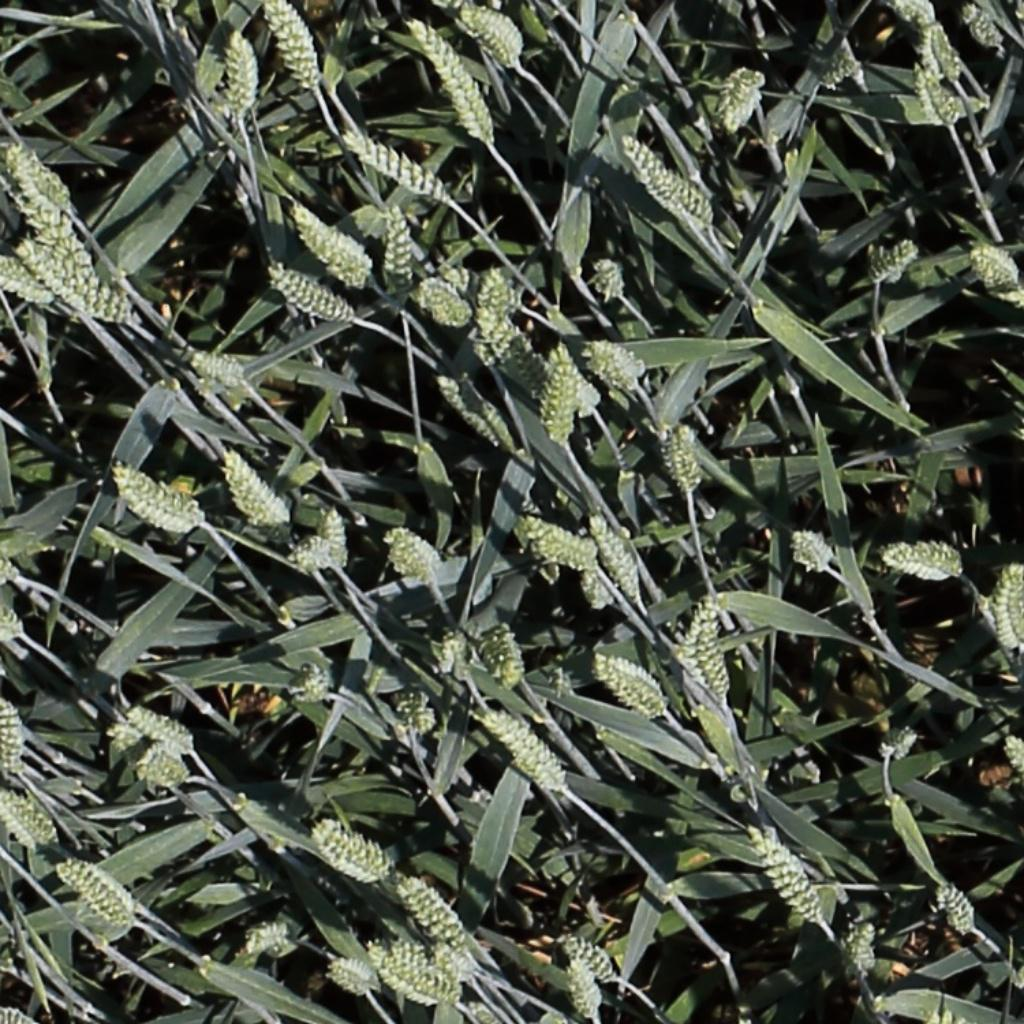0-0: (406, 12, 499, 148), (107, 457, 210, 537), (618, 131, 704, 225), (19, 243, 125, 319), (748, 828, 828, 927), (344, 126, 447, 199), (473, 303, 552, 397), (5, 151, 77, 252), (288, 200, 371, 286), (374, 938, 476, 1007), (484, 712, 567, 794), (219, 443, 292, 532), (12, 130, 88, 213), (593, 510, 656, 608), (307, 818, 391, 889), (263, 0, 323, 95), (636, 160, 724, 223), (407, 871, 479, 946), (267, 263, 352, 322), (55, 861, 133, 924), (687, 601, 736, 700), (871, 536, 969, 585), (518, 518, 604, 571), (595, 655, 666, 718), (540, 345, 598, 419), (652, 417, 704, 499), (537, 339, 577, 445), (458, 4, 524, 65), (920, 6, 966, 87), (0, 787, 53, 854), (913, 57, 962, 129), (417, 267, 473, 330), (129, 743, 192, 798), (226, 25, 261, 123), (718, 66, 765, 136), (559, 933, 621, 984), (126, 702, 197, 746), (932, 879, 980, 942), (386, 527, 443, 580), (476, 393, 522, 458), (992, 560, 1024, 653), (229, 922, 290, 970), (565, 951, 604, 1022), (957, 0, 1008, 53), (278, 658, 332, 708), (480, 260, 520, 324), (0, 253, 51, 303), (385, 196, 410, 297), (587, 341, 645, 383), (818, 40, 865, 91), (430, 940, 487, 982), (791, 527, 839, 576), (495, 619, 525, 697), (871, 238, 922, 283), (970, 241, 1021, 285), (322, 956, 377, 996), (442, 623, 475, 689), (874, 724, 925, 766), (0, 690, 23, 780), (395, 690, 436, 740), (593, 249, 628, 307), (320, 501, 348, 573), (188, 348, 245, 383), (853, 913, 882, 980), (576, 573, 617, 610), (999, 731, 1024, 785), (0, 584, 20, 640), (468, 997, 505, 1024), (0, 557, 21, 590), (0, 1007, 31, 1024)
